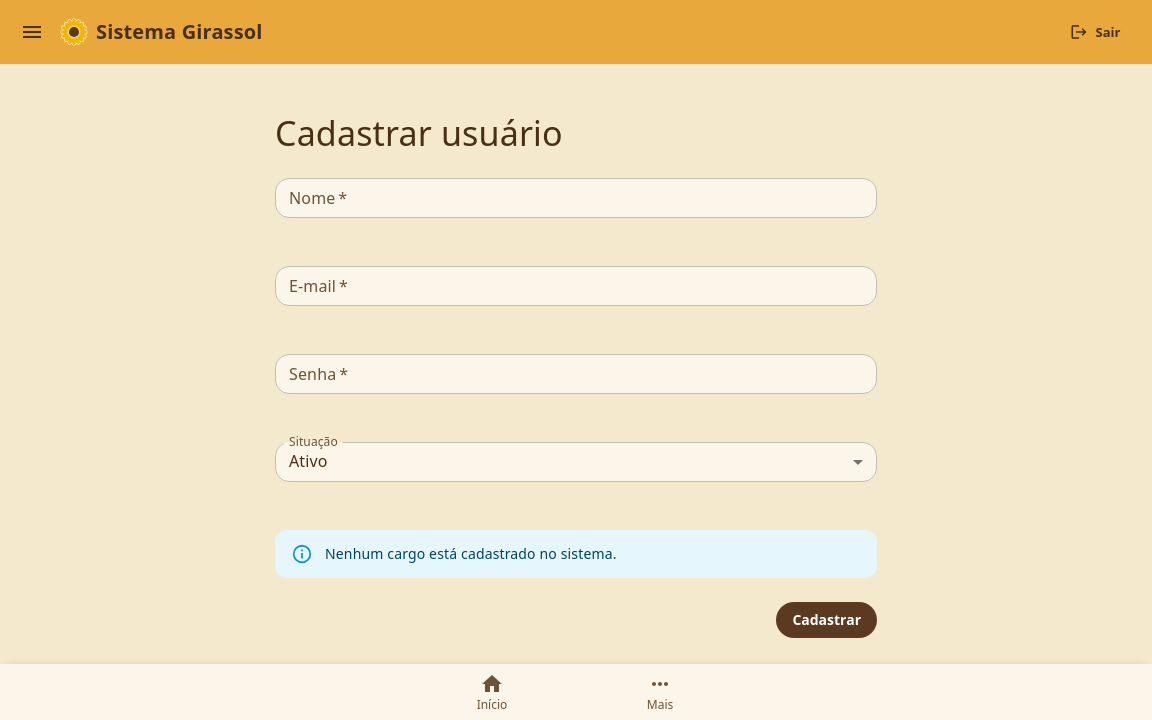
Scenario: UsuarioFormPage — cadastro/edição (#3) › bloqueia o envio sem senha ao criar
Type "Carlos" into the field labelled "Nome" at (576, 198), box 275,178 -> 877,218
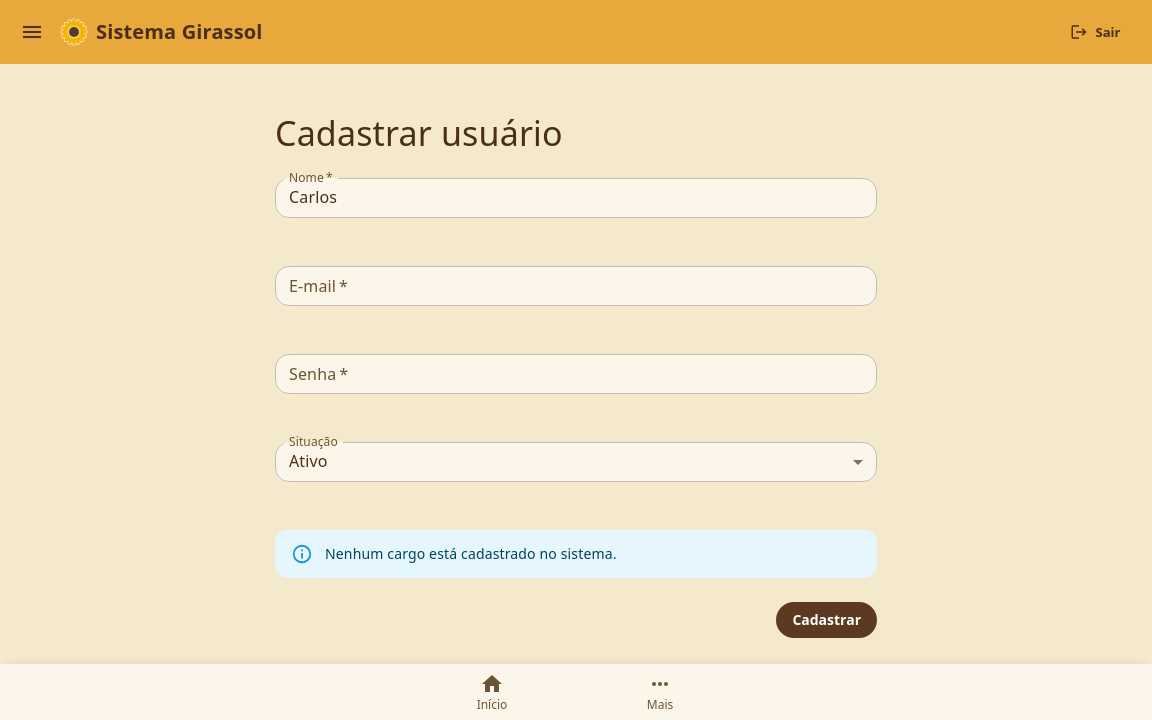
Type "carlos@ong.org" into the field labelled "E-mail" at (576, 286), box 275,266 -> 877,306
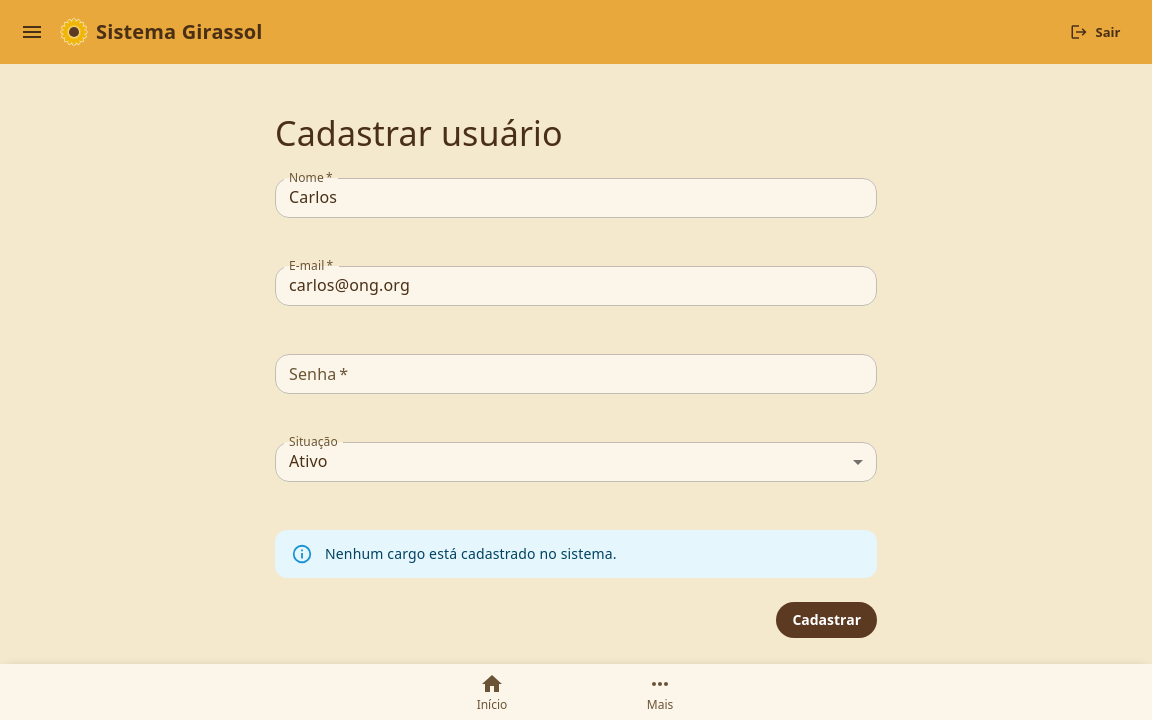
Click the button "Cadastrar" at (827, 620), box 776,602 -> 877,638
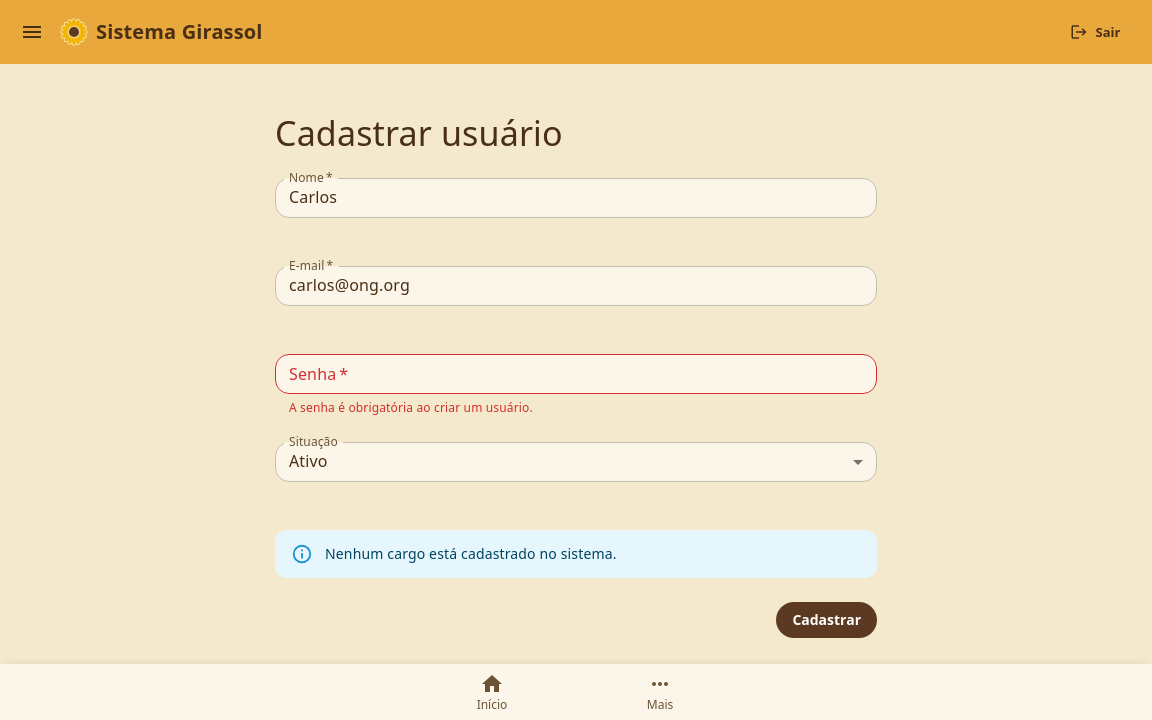
Now the text "A senha é obrigatória ao criar um usuário." is shown, box 289,399 -> 533,416
